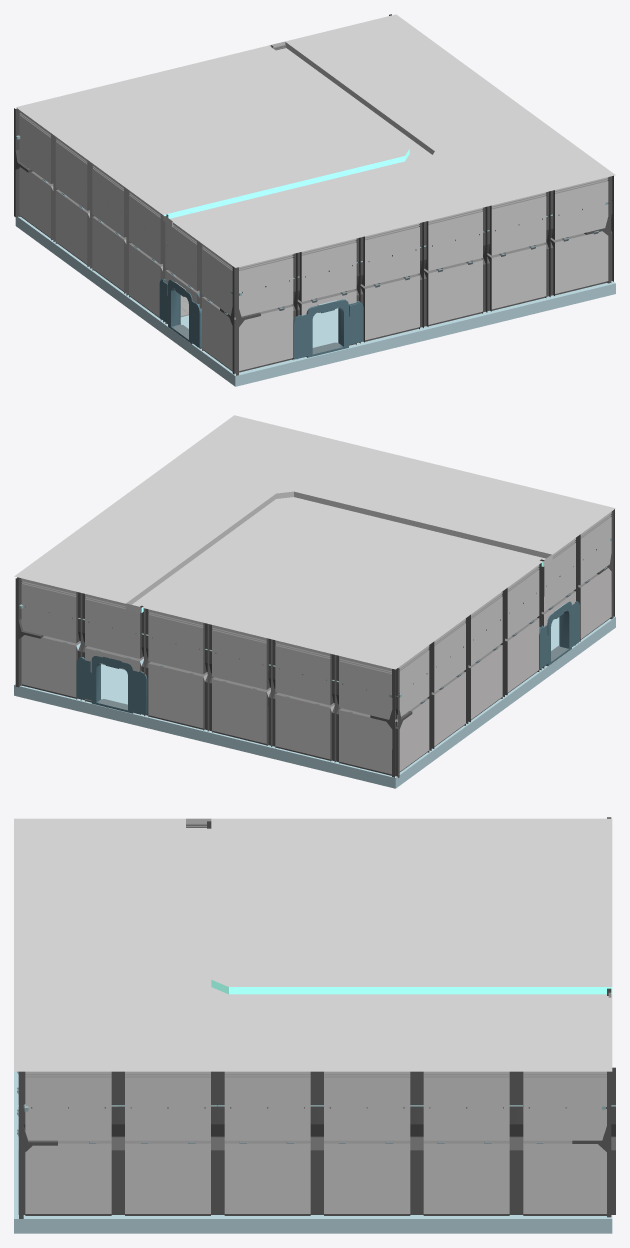
The model's file is PreVis_BigRoomExportJoined.fbx.
The picture shows the model from 3 angles, top to bottom: view 1: azimuth 30°, elevation 25°; view 2: azimuth 150°, elevation 25°; view 3: azimuth 270°, elevation 25°; orthographic projection. The views are drawn at different scales.
Parts seen in each view (by area): view 1: m_Floor.01; view 2: m_Floor.01; view 3: m_Floor.01.
Boxes of the visible parts, left/top/right/bottom form: m_Floor.01: left=14, top=14, right=615, bottom=386; m_Floor.01: left=14, top=415, right=615, bottom=788; m_Floor.01: left=14, top=817, right=615, bottom=1233.
Bounding box in the file's own units: 2031 × 603 × 2032.
